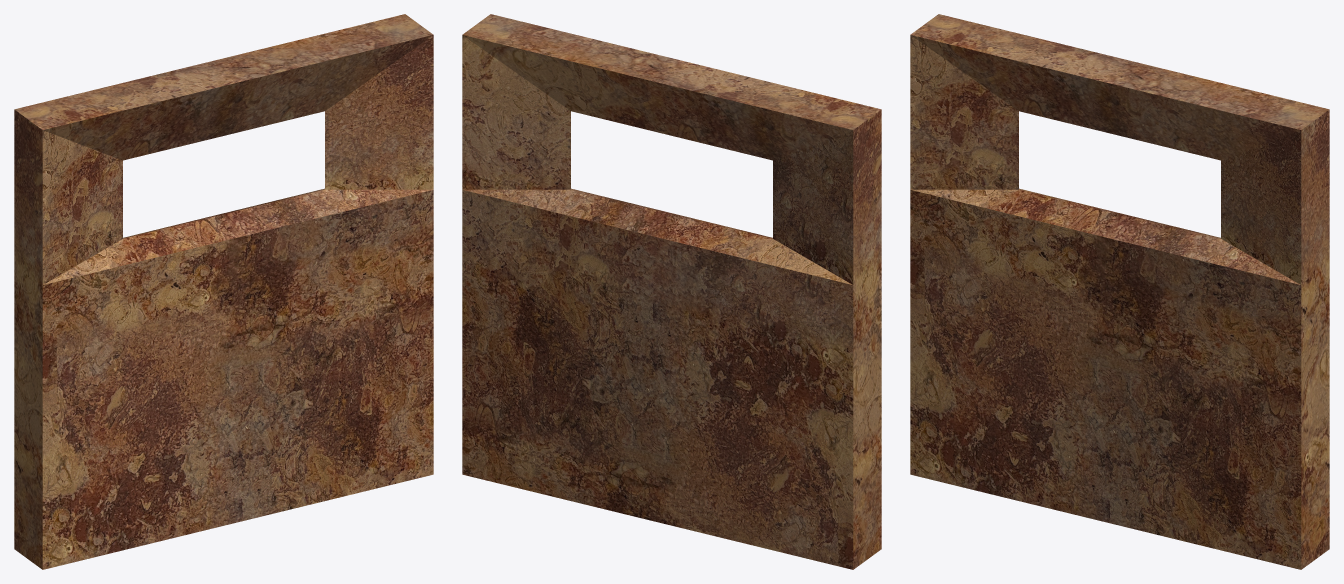
The model's file is door_windowed.fbx.
3 views of the same model, side by side, from view 1: azimuth 30°, elevation 25°; view 2: azimuth 150°, elevation 25°; view 3: azimuth 330°, elevation 25° (orthographic).
Parts seen in each view (by area): view 1: door_windowed; view 2: door_windowed; view 3: door_windowed.
Boxes of the visible parts, box(x1,y1,x2,y2) form: door_windowed: box(14, 14, 433, 569); door_windowed: box(462, 14, 881, 569); door_windowed: box(910, 14, 1329, 569).
Bounding box in the file's own units: 67.91 × 72.99 × 8.56.
